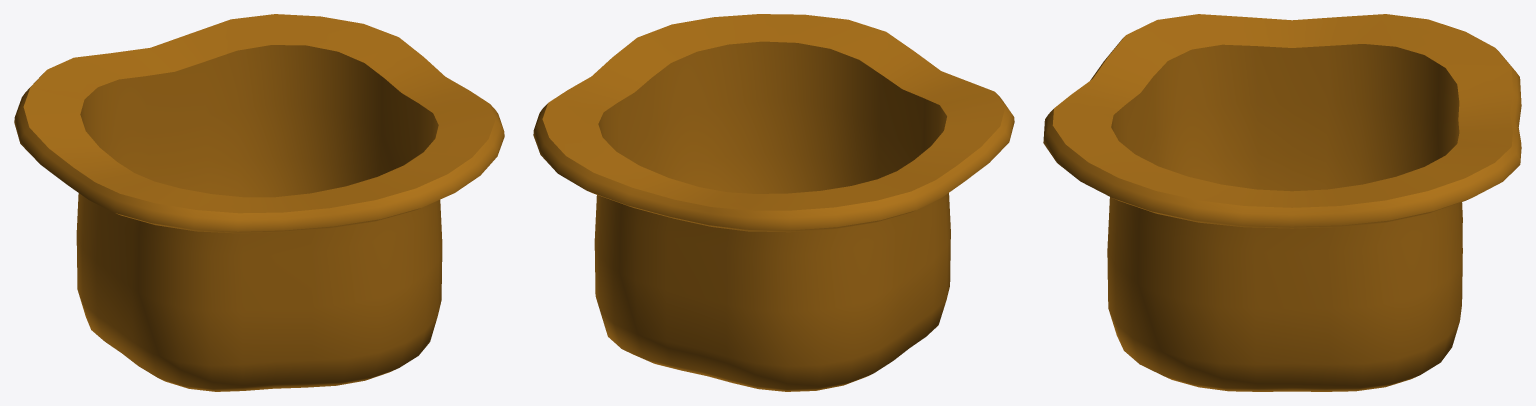
The model's file is Pote_05.fbx.
3 renders of one model, left to right at view 1: azimuth 30°, elevation 25°; view 2: azimuth 150°, elevation 25°; view 3: azimuth 270°, elevation 25°, orthographic. The views are drawn at different scales.
Parts seen in each view (by area): view 1: Pote_05; view 2: Pote_05; view 3: Pote_05.
Part boxes in pixels (bbox=[...]): Pote_05: bbox=[14, 14, 504, 391]; Pote_05: bbox=[533, 14, 1014, 391]; Pote_05: bbox=[1043, 14, 1521, 391].
Bounding box in the file's own units: 22.38 × 11.93 × 23.02.
